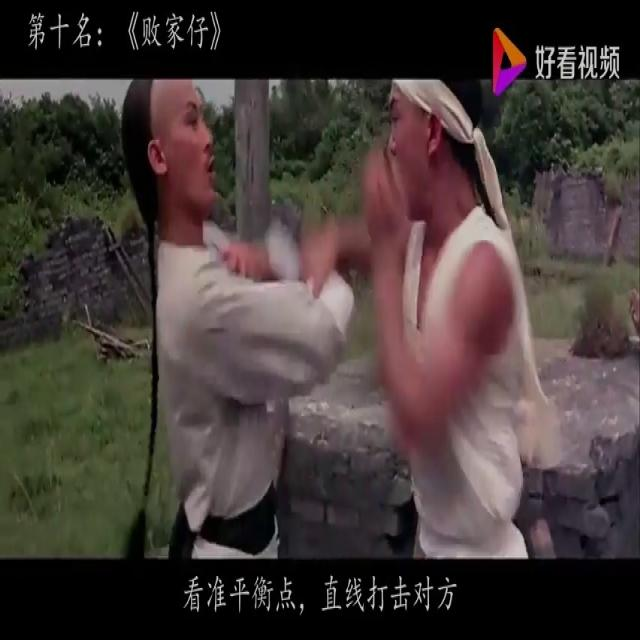fight: (100, 56, 560, 576)
